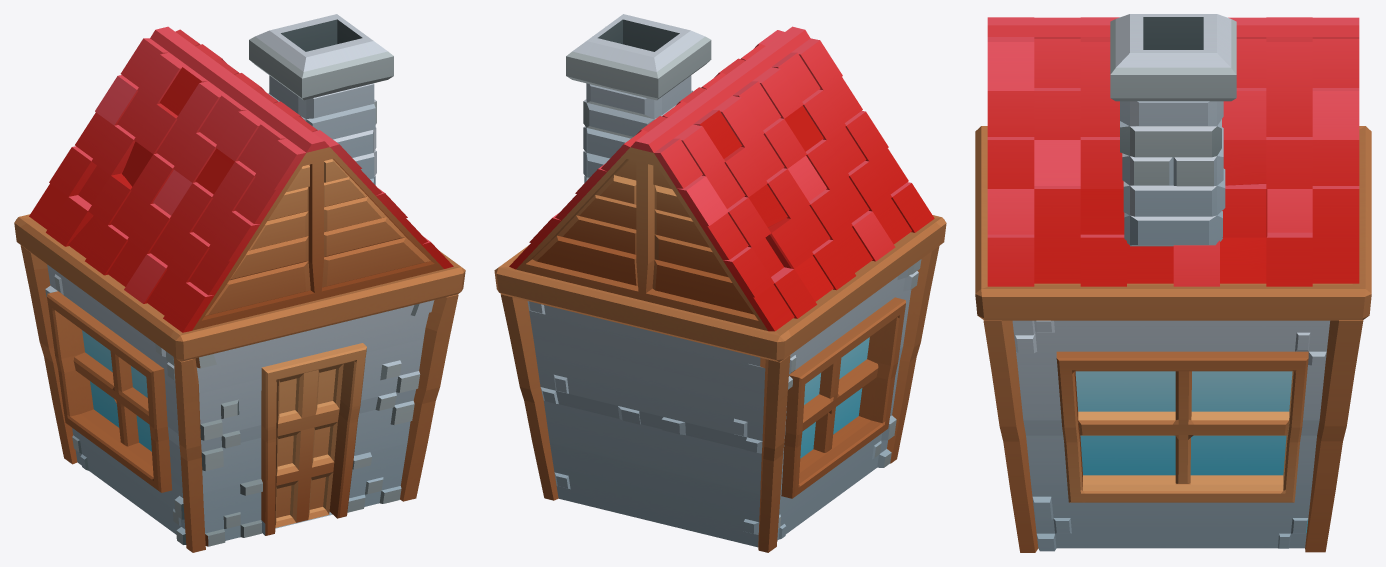
The model's file is CASA.fbx.
3 views of the same model, side by side, from view 1: azimuth 30°, elevation 25°; view 2: azimuth 150°, elevation 25°; view 3: azimuth 270°, elevation 25° (orthographic). The views are drawn at different scales.
Visible parts, largest first — view 1: Cube; view 2: Cube; view 3: Cube.
Part boxes in pixels (x1,y1,x2,y2): Cube: (14,14,465,552); Cube: (494,14,946,552); Cube: (975,14,1371,552).
Size of the model in its own units: 441 by 614 by 439.
